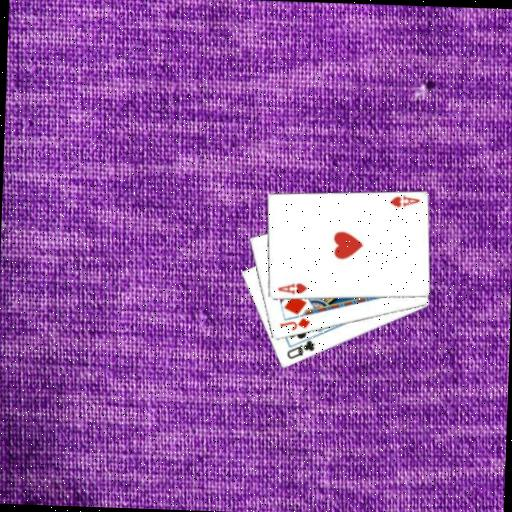AH: (274, 278, 308, 296), (387, 191, 421, 209)
JD: (276, 314, 312, 332)
QC: (283, 336, 316, 361)
